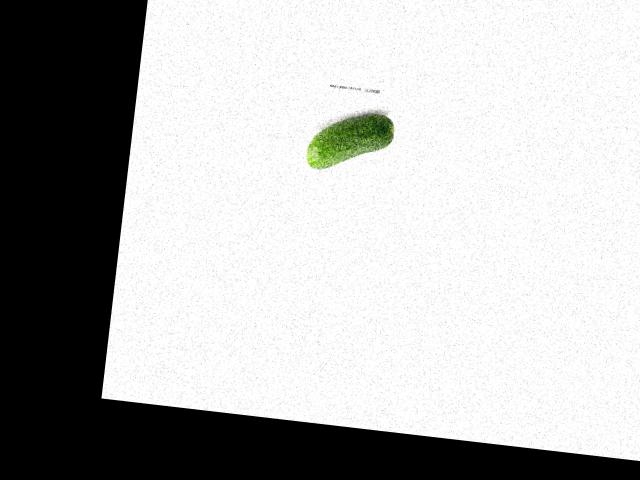cucumber: (305, 106, 396, 177)
